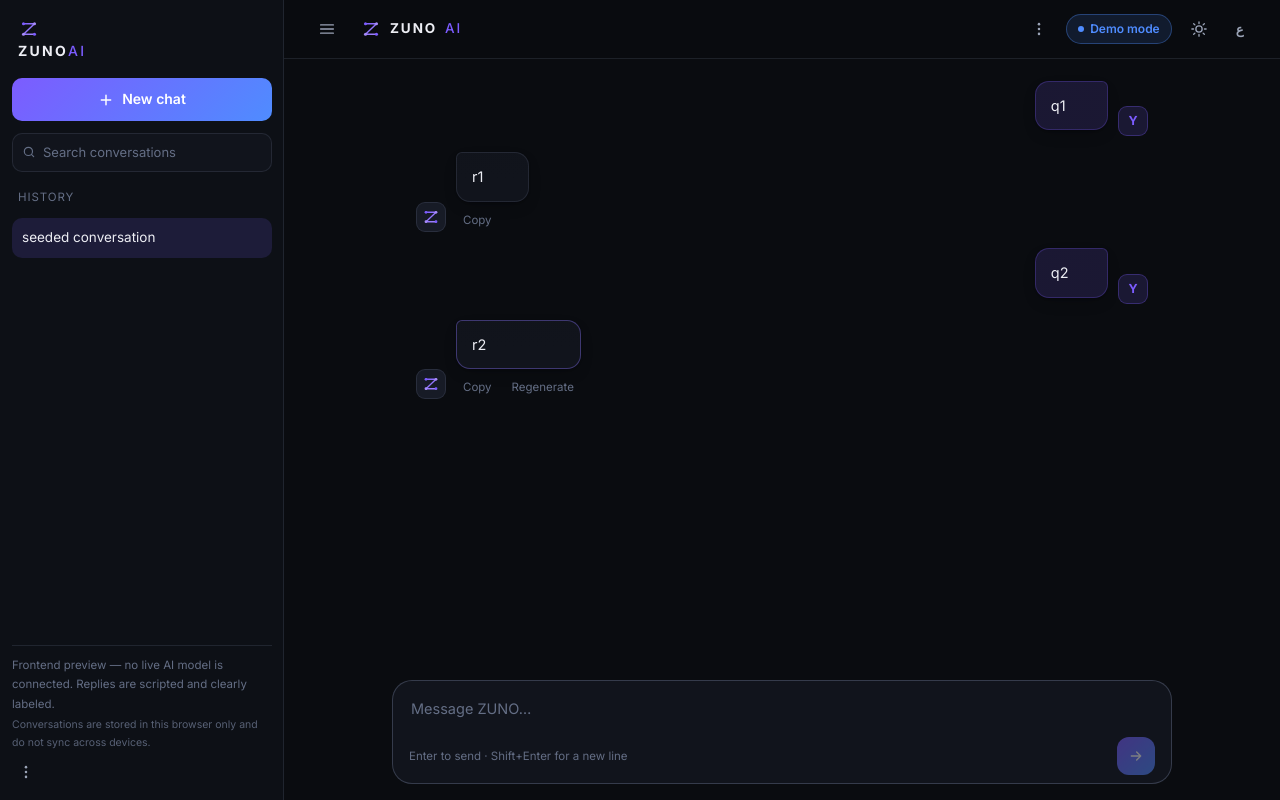
Test: Chat one-request invariant (spec T1–T6) › T3: regenerate replaces only the last reply, keeps full history, and sends the remaining thread
Click the button "Regenerate": (543, 387) [505,375,581,399]
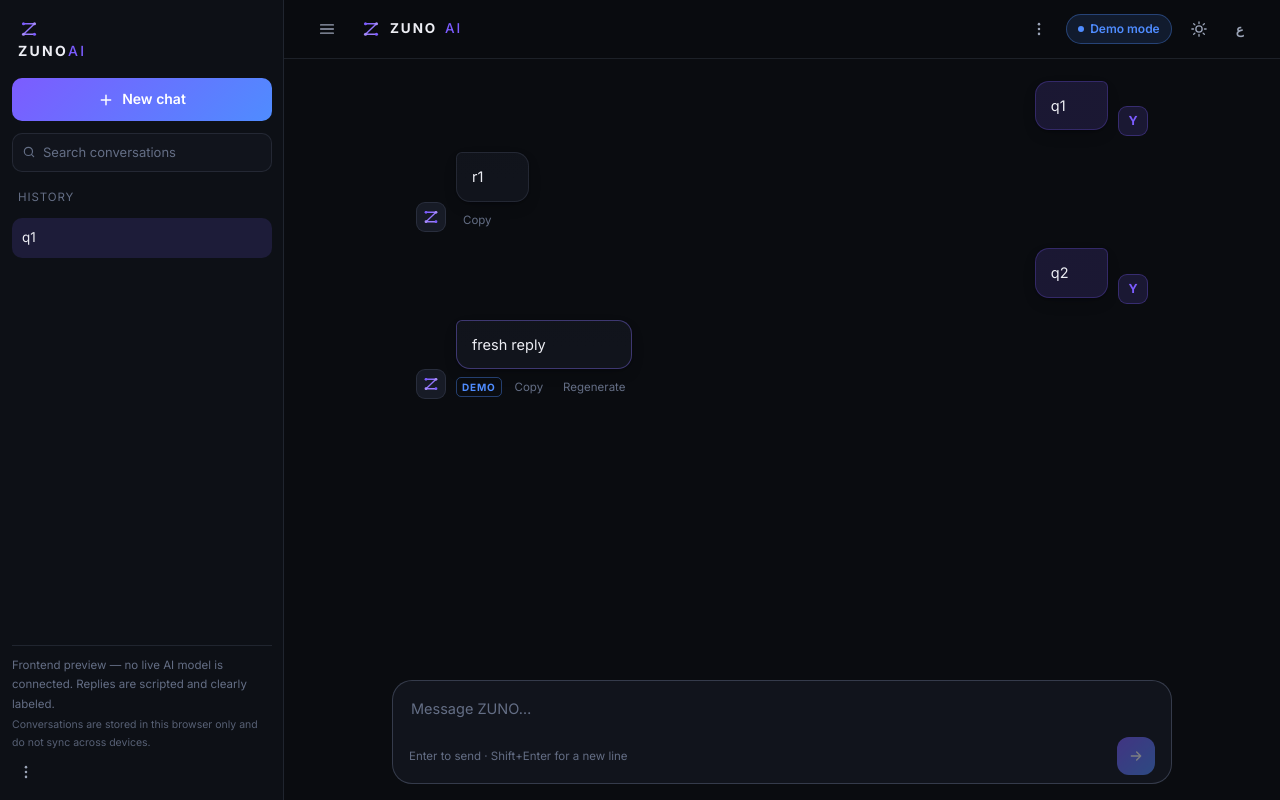
Expected: the text "fresh reply" is shown, [472,336,546,352]
